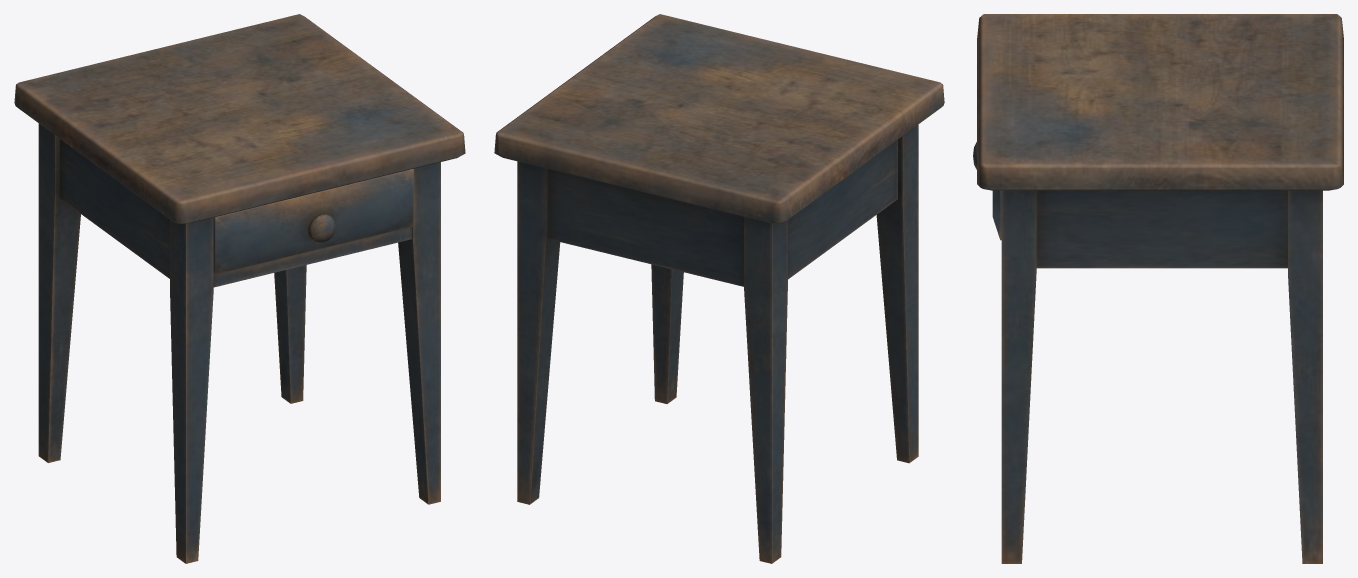
Rendered from painted_wooden_nightstand.glb.
3 views of the same model, side by side, from view 1: azimuth 30°, elevation 25°; view 2: azimuth 150°, elevation 25°; view 3: azimuth 270°, elevation 25° (orthographic). The views are drawn at different scales.
Parts seen in each view (by area): view 1: painted_wooden_nightstand, painted_wooden_nightstand_drawer; view 2: painted_wooden_nightstand; view 3: painted_wooden_nightstand, painted_wooden_nightstand_drawer.
Part boxes in pixels (box(x1,y1,x2,y2)): painted_wooden_nightstand: box(14, 14, 465, 563); painted_wooden_nightstand_drawer: box(213, 168, 413, 274); painted_wooden_nightstand: box(494, 14, 944, 563); painted_wooden_nightstand: box(977, 14, 1343, 563); painted_wooden_nightstand_drawer: box(973, 142, 1001, 240).
Size of the model in its own units: 0.5046 by 0.6155 by 0.5087.
Materials: 1 (1 with a texture image).
